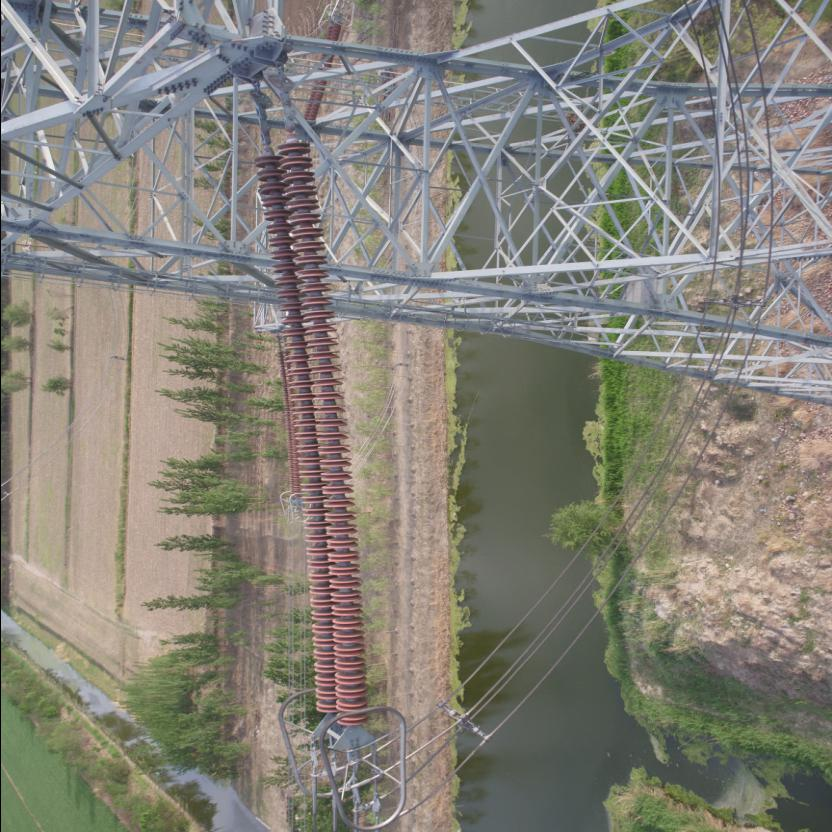insulator: (244, 104, 370, 739)
